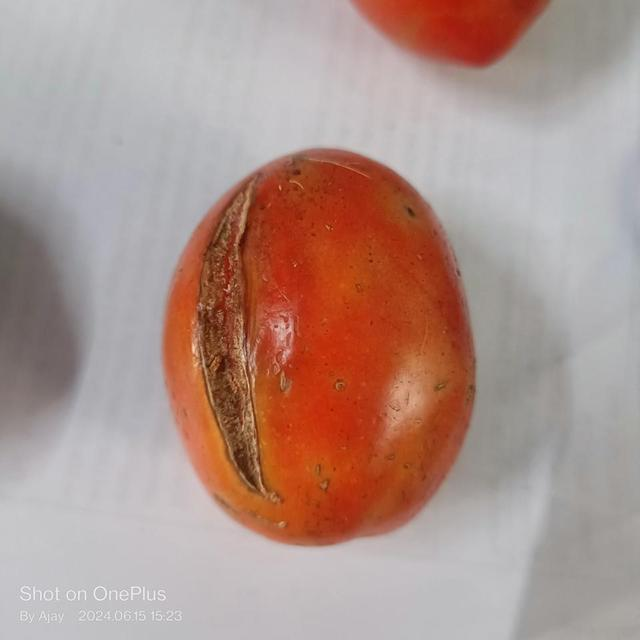Cracking Fruit: (50, 128, 224, 458)
